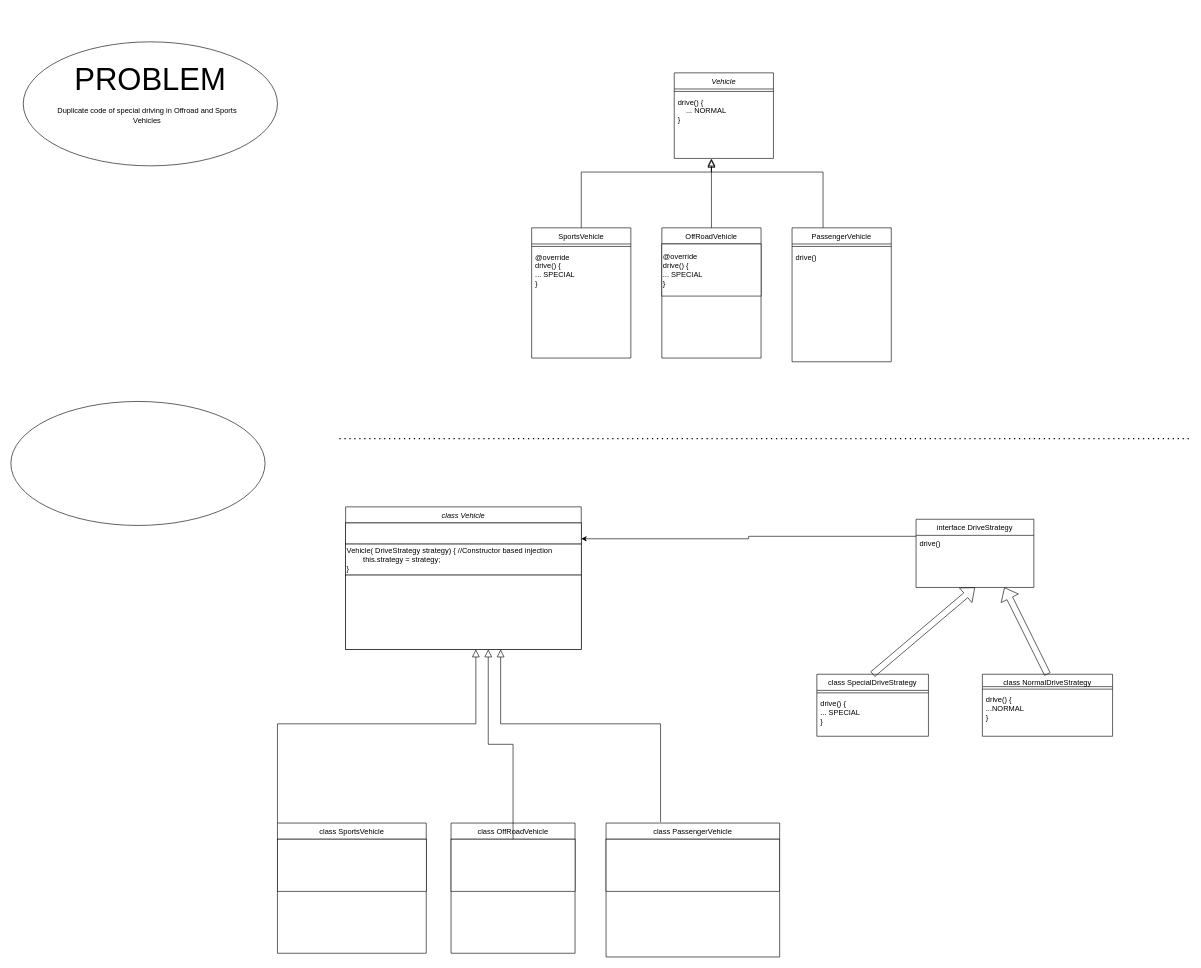
Image size: 1201x968. Some labels were removed from this diagram. Here are the shapes that lost their labels. From the top down, the centre of each, then its label:
At pixel 137 463: "SOLUTION".
At pixel 463 533: "DriveStrategy strategy; //Apply dependency injection here".
At pixel 463 611: "drive() { this.strategy.drive(); }".
At pixel 351 865: "public SportsVehicle() { super(new SpecialDriveStrategy(); }".
At pixel 512 865: "public OffRoadVehicle() { super(new SpecialDriveStrategy(); }".
At pixel 692 865: "public PassengerVehicle() { super(new NormalDriveStrategy(); }".
